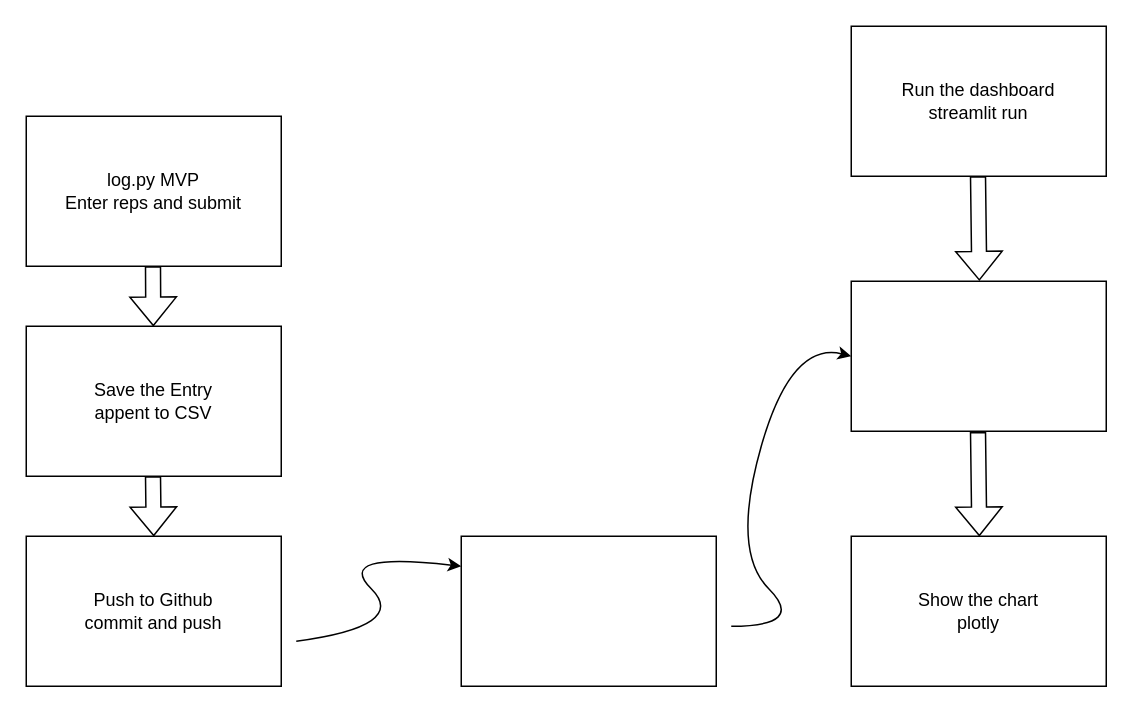
This 1133x713 diagram has some shape labels left out. The shapes that lost their labels are listed below. From the top down, each one's centre as x and y in pixels, then its label:
At (x=978, y=355): "Read the data Pandas".
At (x=588, y=610): "pushups.csv github repo".
